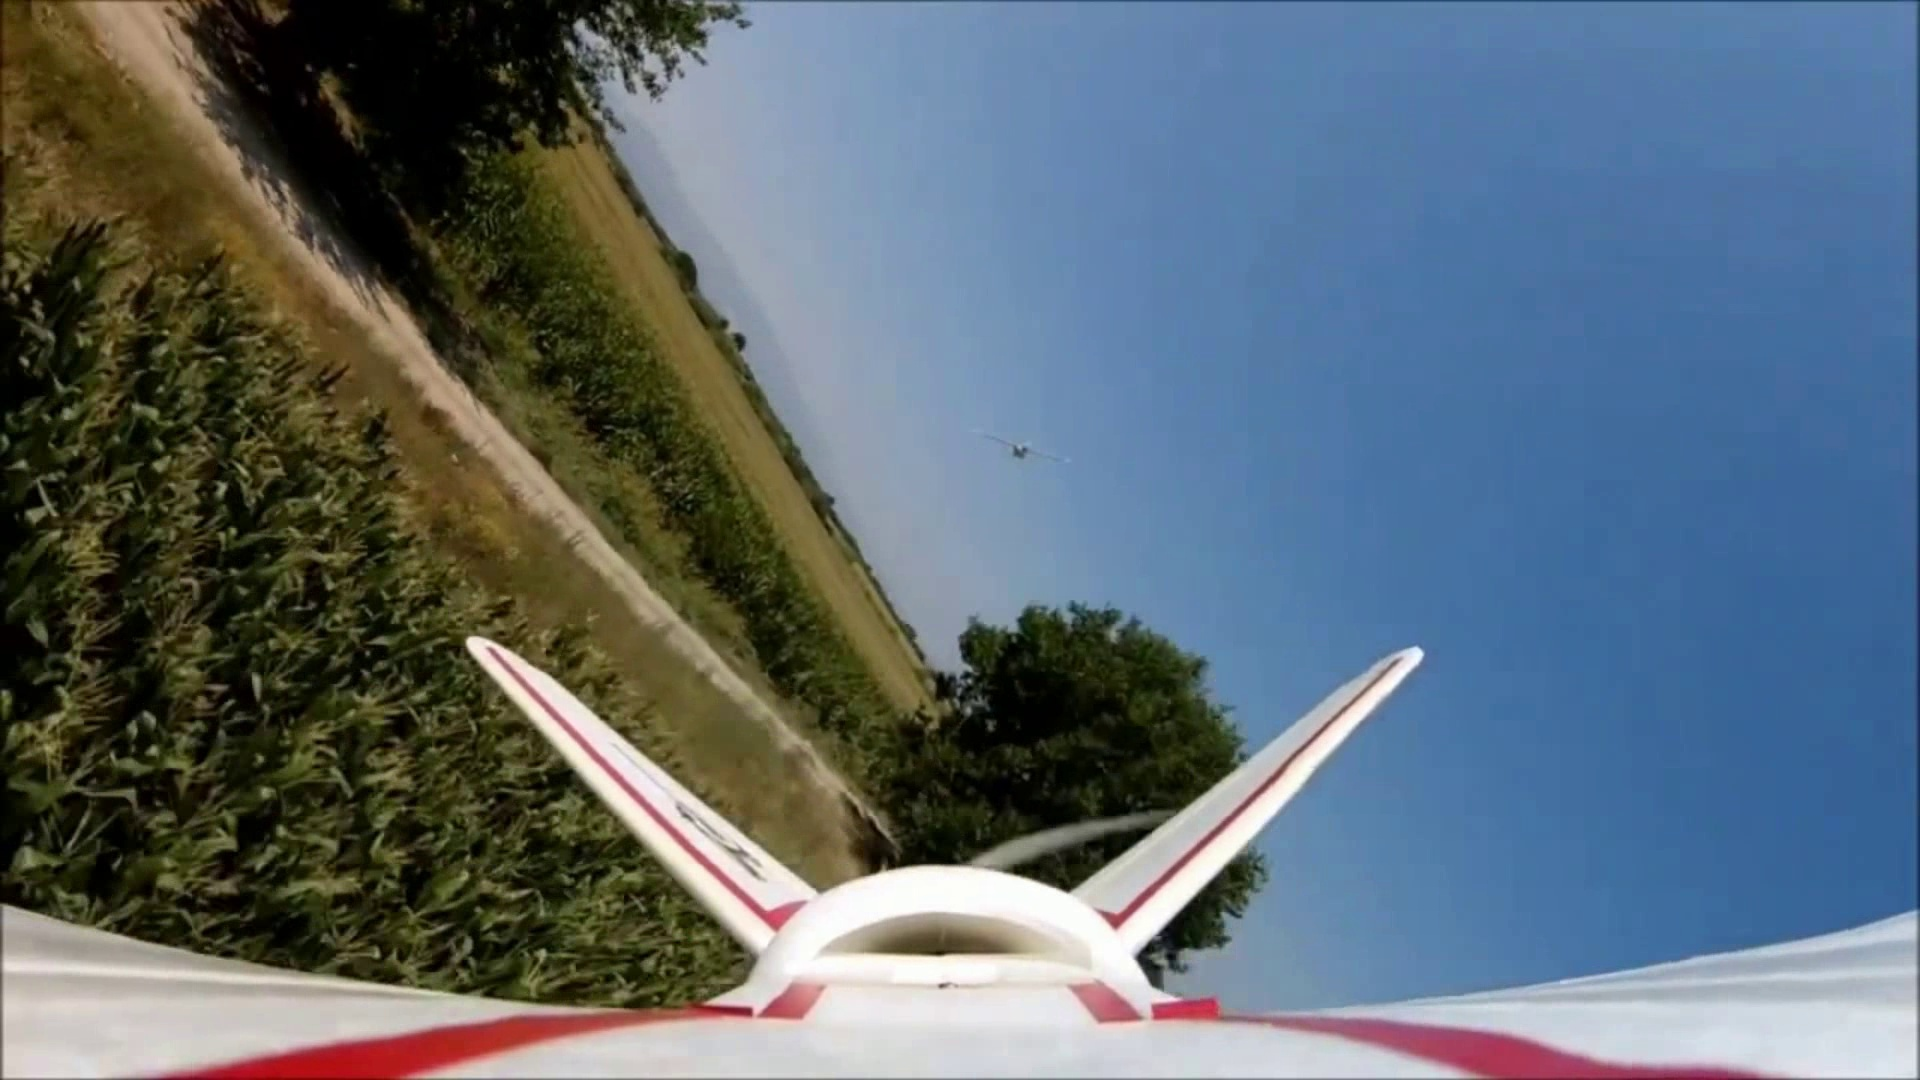airplane: (28, 629, 1905, 1064)
